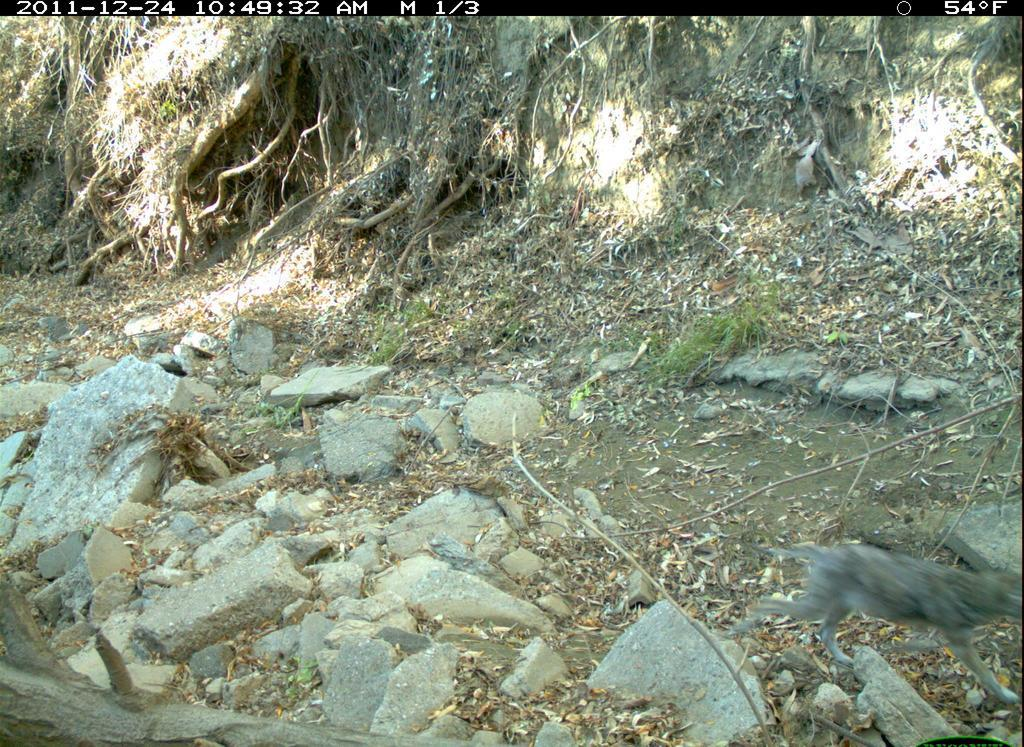coyote: (728, 529, 1023, 711)
